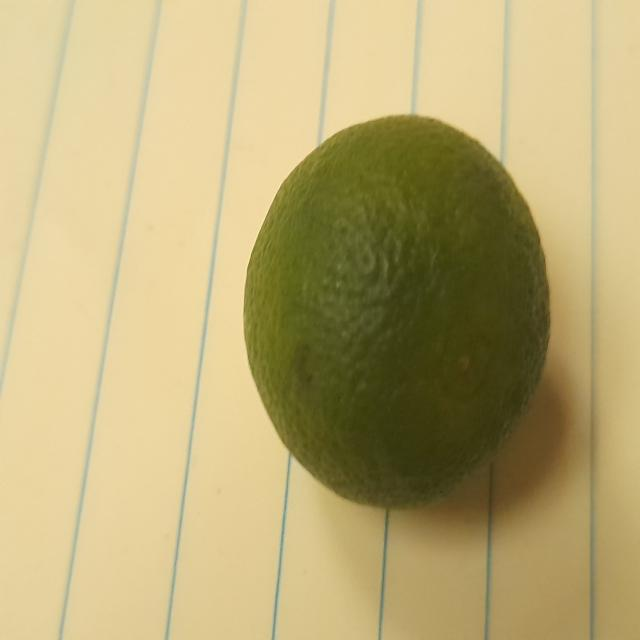heathy: (244, 97, 573, 530)
